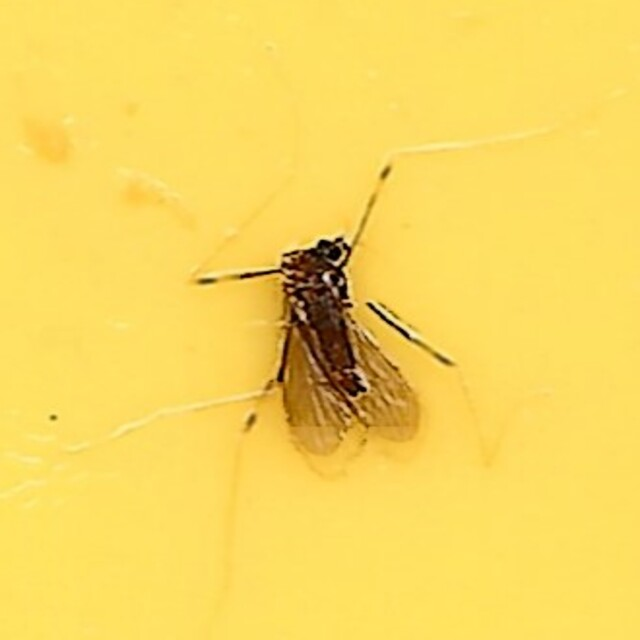Nematocera: (194, 165, 446, 475)
